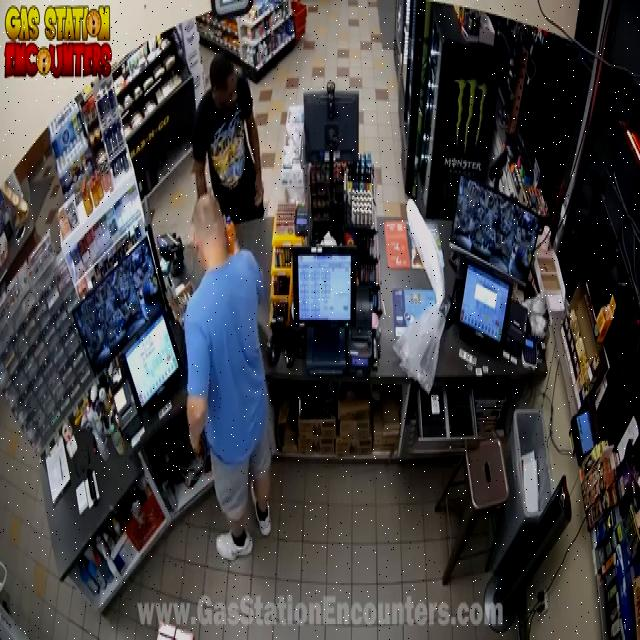article: (227, 217, 235, 252)
person: (184, 196, 271, 560), (193, 55, 263, 224)
